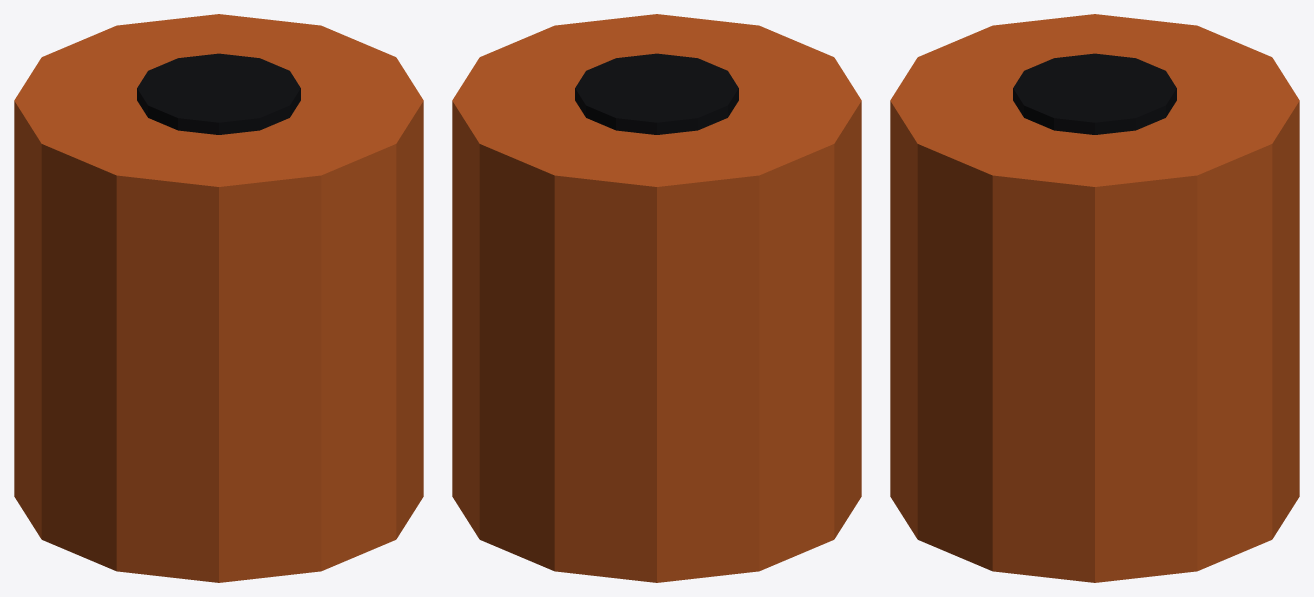
The model's file is 139_L108_GroundVia.fbx.
3 renders of one model, left to right at view 1: azimuth 30°, elevation 25°; view 2: azimuth 150°, elevation 25°; view 3: azimuth 270°, elevation 25°, orthographic.
Parts seen in each view (by area): view 1: 127_L106_GroundVia_000, 127_L106_GroundVia_001; view 2: 127_L106_GroundVia_000, 127_L106_GroundVia_001; view 3: 127_L106_GroundVia_000, 127_L106_GroundVia_001.
Part boxes in pixels (x1,y1,x2,y2): 127_L106_GroundVia_000: (14,14,423,582); 127_L106_GroundVia_001: (137,53,300,134); 127_L106_GroundVia_000: (452,14,861,582); 127_L106_GroundVia_001: (575,53,738,134); 127_L106_GroundVia_000: (890,14,1299,582); 127_L106_GroundVia_001: (1013,53,1176,134).
Size of the model in its own units: 0.0015 by 0.0015 by 0.0017.
